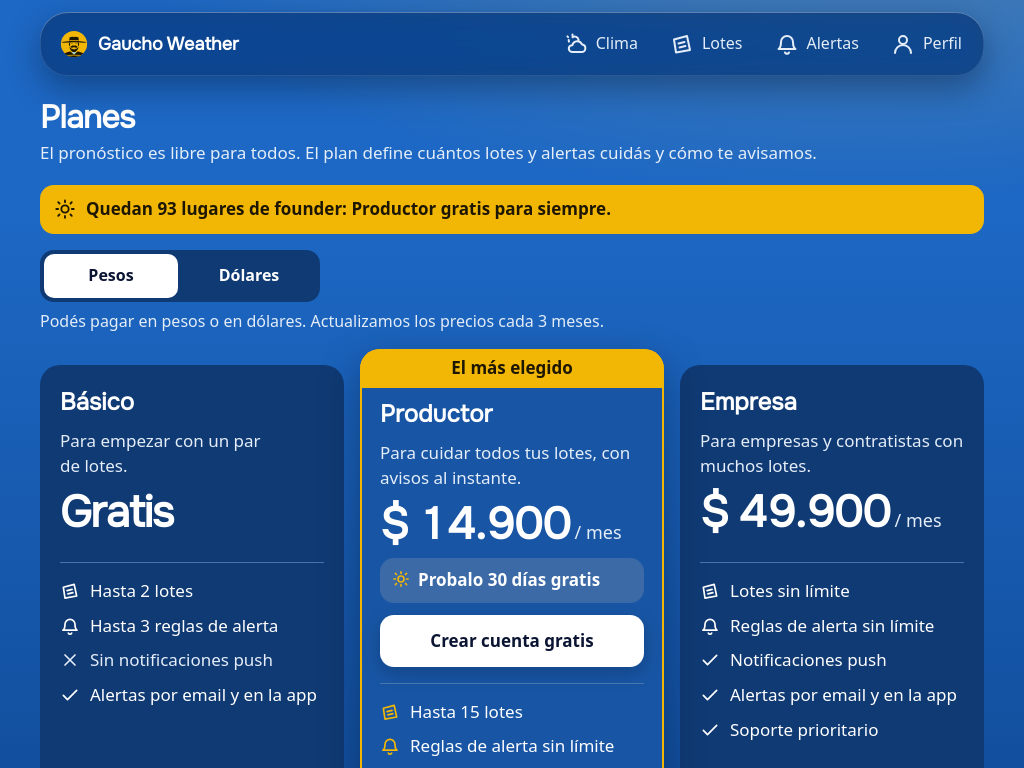
Test: Planes in pesos or dollars (precios-productor S5) › switches every card to dollars
The width and height of the screenshot is (1024, 768).
Click the button "Dólares" at (249,276), box 182,254 -> 316,298
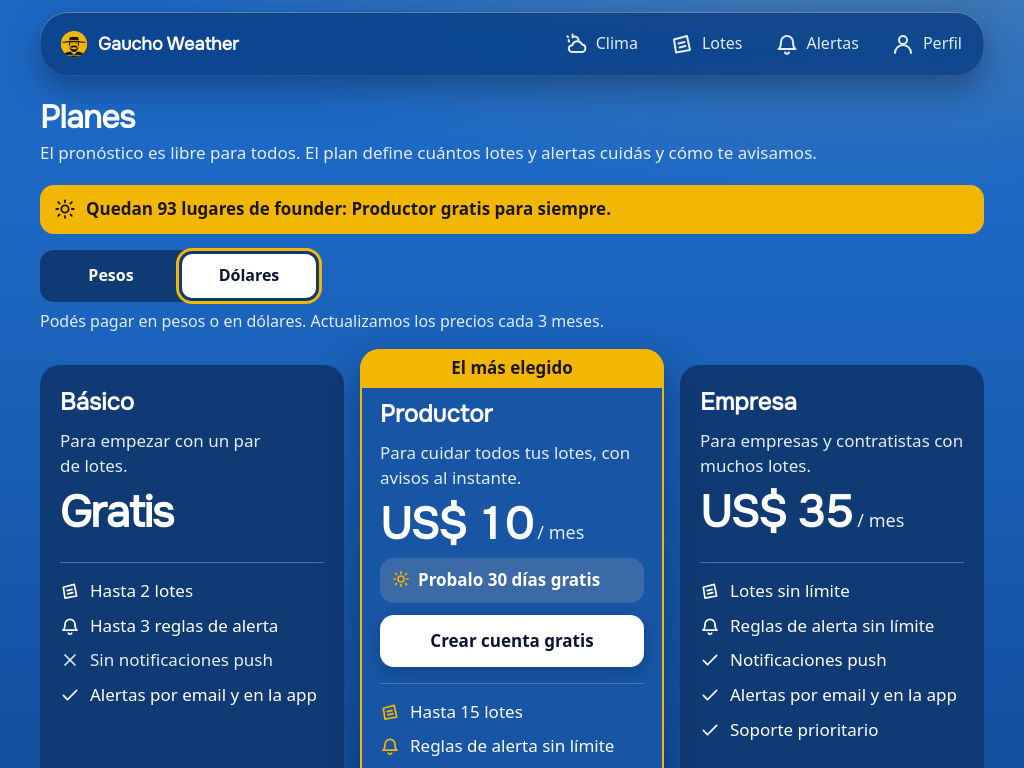
Expected: the text "US$ 10" is shown, 380,496 -> 533,552
Expected: the text "US$ 35" is shown, 700,484 -> 853,540
Expected: the text "$ 14.900" is gone
